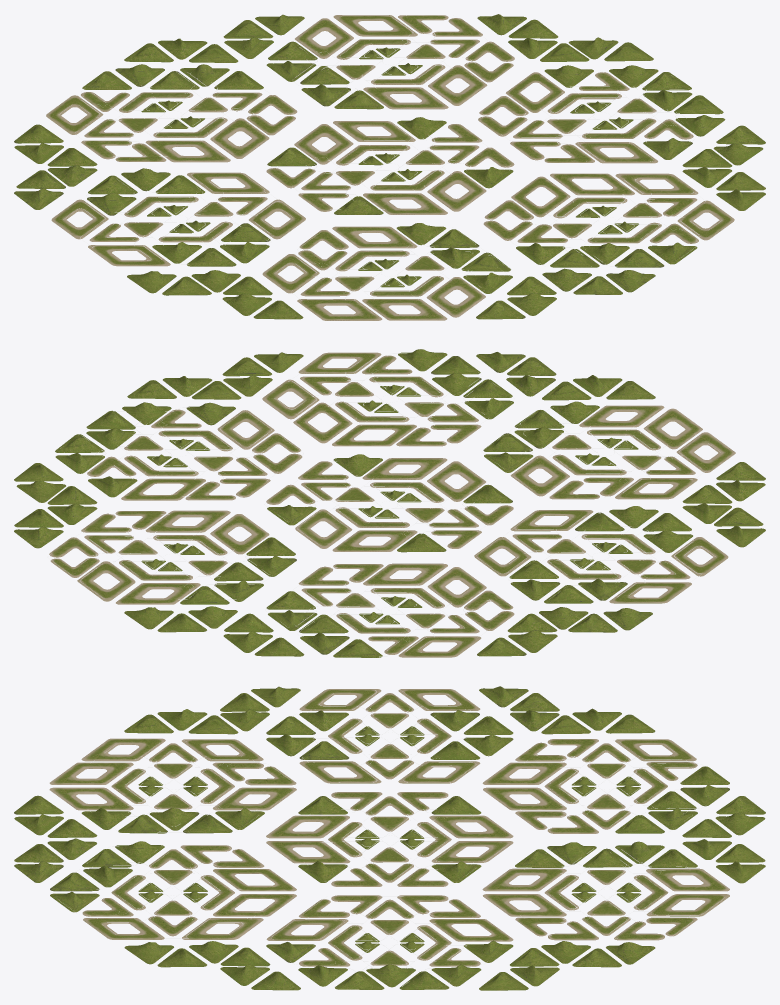
File: island.gltf
3 views of the same model, one above another, from view 1: azimuth 30°, elevation 25°; view 2: azimuth 150°, elevation 25°; view 3: azimuth 270°, elevation 25° (orthographic).
Parts seen in each view (by area): view 1: SM_Island101, SM_Island100, SM_Island105, SM_Island104, SM_Island111, SM_Island102, SM_Island103, SM_Island106, SM_Island110, SM_Island35, SM_Island112, SM_Island113 (+110 smaller); view 2: SM_Island102, SM_Island35, SM_Island112, SM_Island104, SM_Island110, SM_Island113, SM_Island105, SM_Island106, SM_Island111, SM_Island100, SM_Island101, SM_Island103 (+112 smaller); view 3: SM_Island110, SM_Island35, SM_Island103, SM_Island101, SM_Island106, SM_Island113, SM_Island105, SM_Island112, SM_Island100, SM_Island111, SM_Island102, SM_Island104 (+113 smaller).
Boxes of the visible parts, x1,y1,x2,y2 form: SM_Island101: [363, 87, 448, 109]; SM_Island100: [145, 140, 230, 162]; SM_Island105: [332, 226, 417, 248]; SM_Island104: [427, 171, 486, 211]; SM_Island111: [362, 299, 447, 320]; SM_Island102: [428, 65, 487, 105]; SM_Island103: [363, 193, 447, 214]; SM_Island106: [297, 299, 382, 320]; SM_Island110: [294, 124, 353, 164]; SM_Island35: [210, 118, 269, 158]; SM_Island112: [426, 277, 485, 317]; SM_Island113: [295, 18, 353, 58]; SM_Island102: [145, 510, 230, 532]; SM_Island35: [363, 563, 447, 585]; SM_Island112: [579, 405, 664, 427]; SM_Island104: [362, 458, 447, 479]; SM_Island110: [332, 530, 417, 551]; SM_Island113: [116, 583, 200, 604]; SM_Island105: [510, 455, 569, 496]; SM_Island106: [676, 432, 735, 472]; SM_Island111: [643, 408, 702, 449]; SM_Island100: [427, 567, 486, 607]; SM_Island101: [210, 514, 269, 554]; SM_Island103: [427, 461, 485, 501]; SM_Island110: [429, 815, 513, 838]; SM_Island35: [483, 787, 566, 810]; SM_Island103: [266, 815, 349, 838]; SM_Island101: [482, 868, 566, 891]; SM_Island106: [81, 738, 165, 761]; SM_Island113: [646, 868, 729, 891]; SM_Island105: [213, 787, 296, 810]; SM_Island112: [49, 787, 133, 810]; SM_Island100: [482, 762, 566, 784]; SM_Island111: [49, 762, 133, 784]; SM_Island102: [483, 894, 566, 916]; SM_Island104: [266, 841, 350, 863].
Size of what is drawn, in the model's own units: 16381 by 259 by 17221.
Materials: 36 (35 with a texture image).
